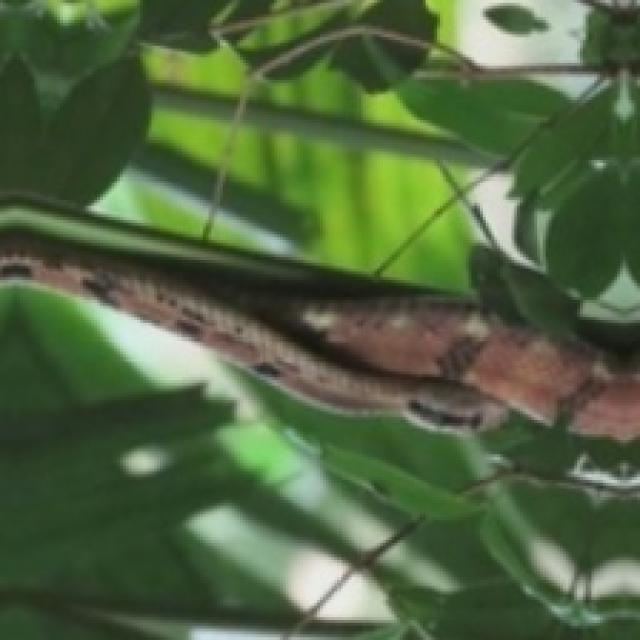dog-toothed cat snake: (0, 200, 637, 437)
